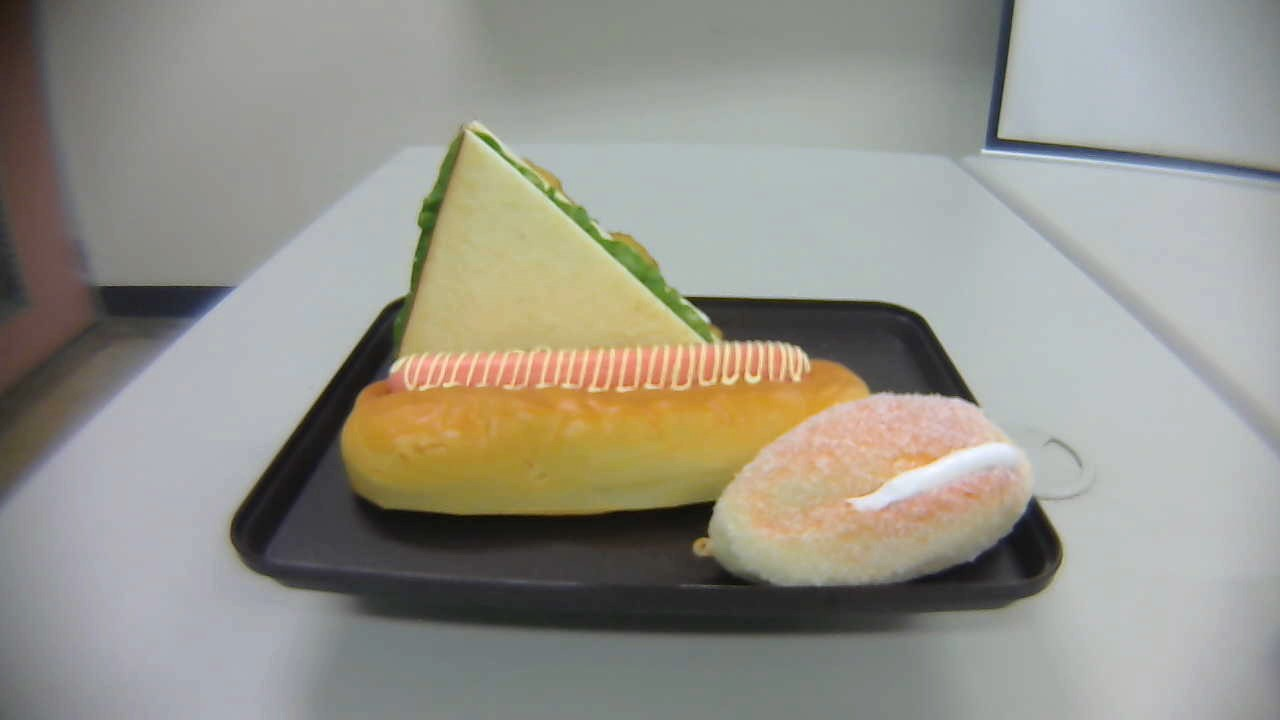coconut: (692, 392, 1032, 588)
hot dog: (340, 347, 873, 519)
sandwich: (388, 120, 733, 389)
